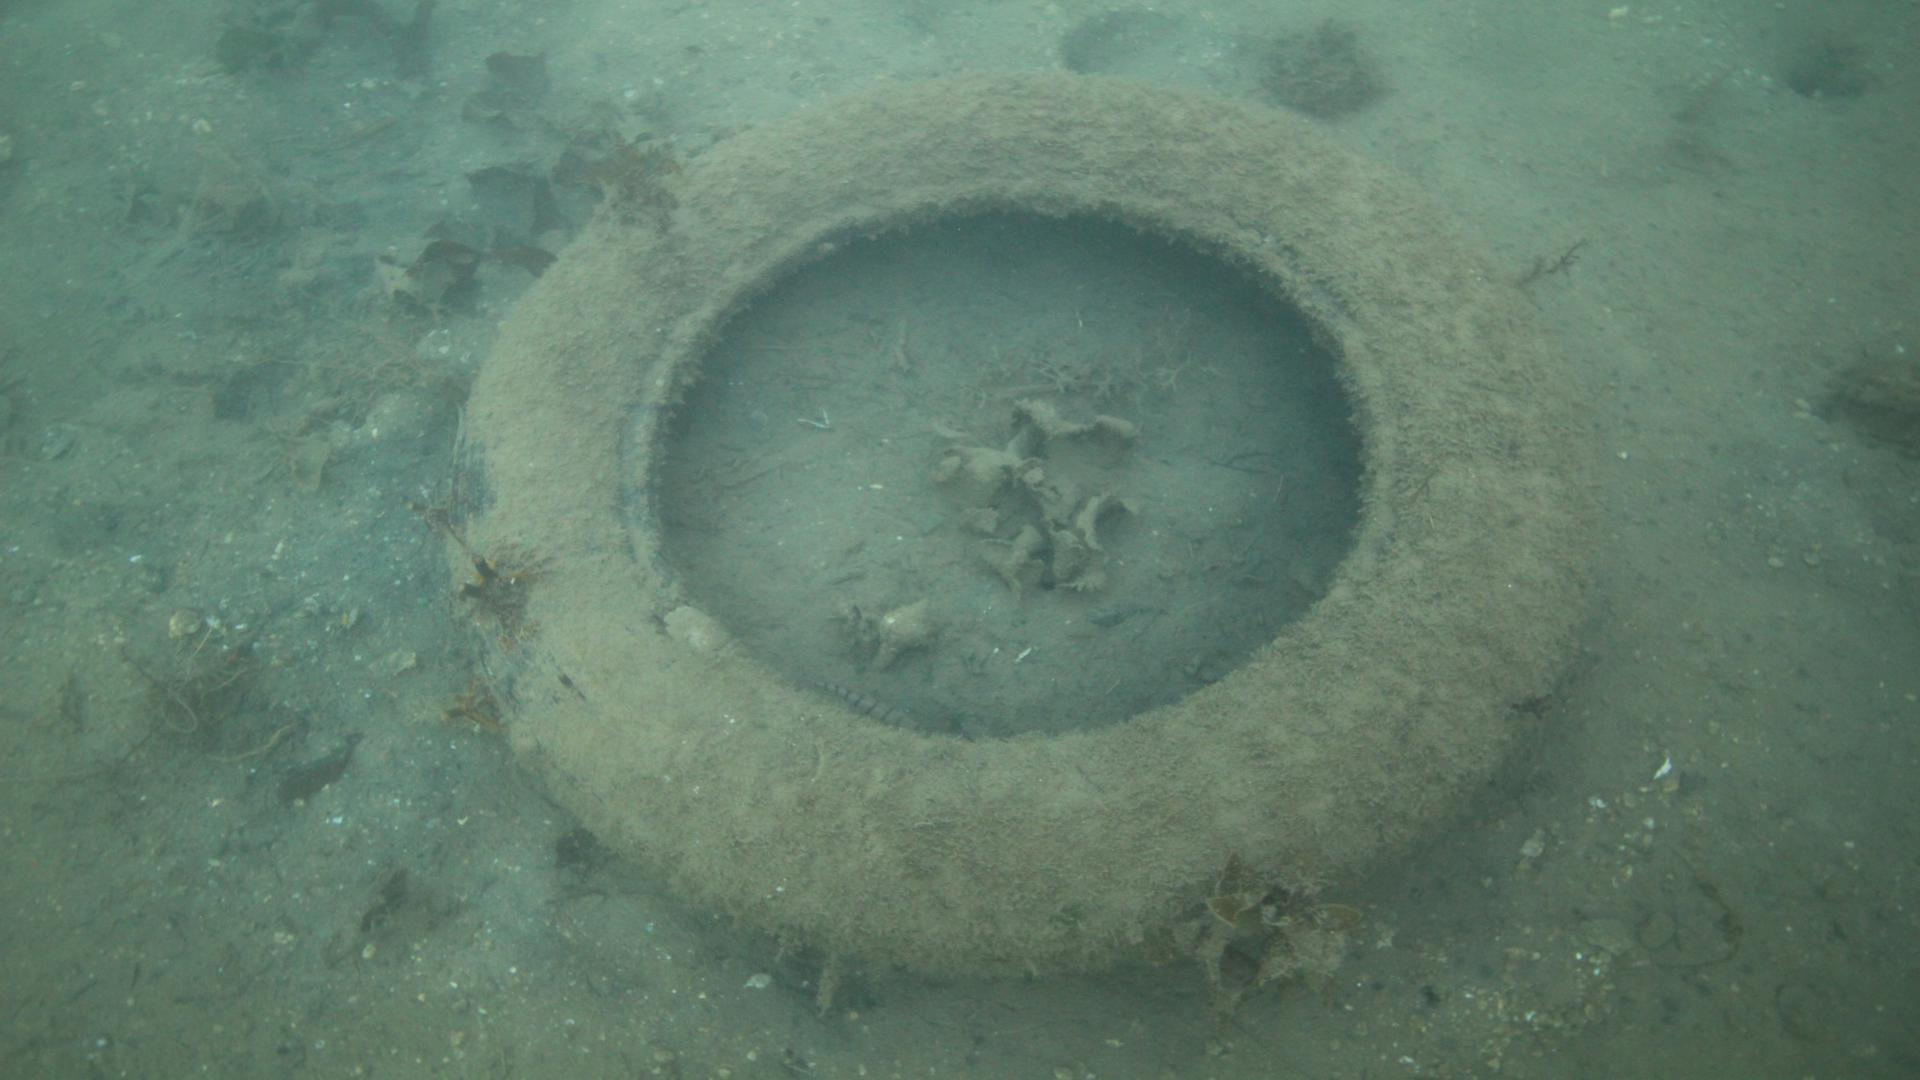tire: (442, 69, 1602, 982)
